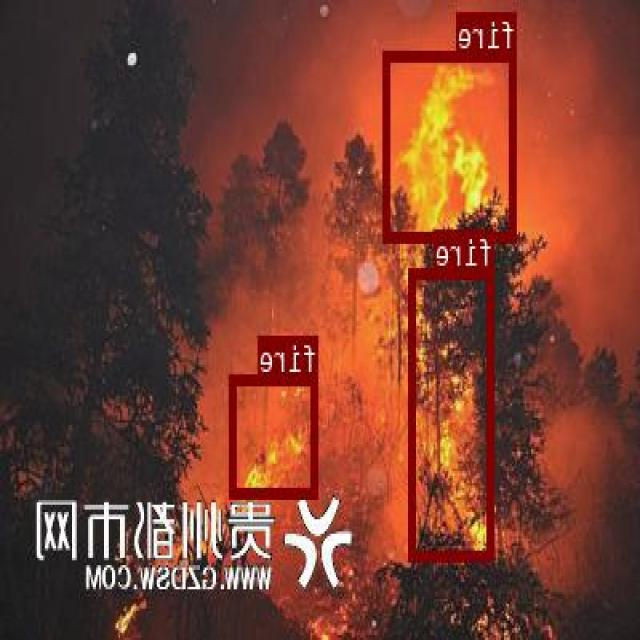fire: (384, 50, 518, 240), (410, 267, 496, 558), (230, 373, 320, 495)
